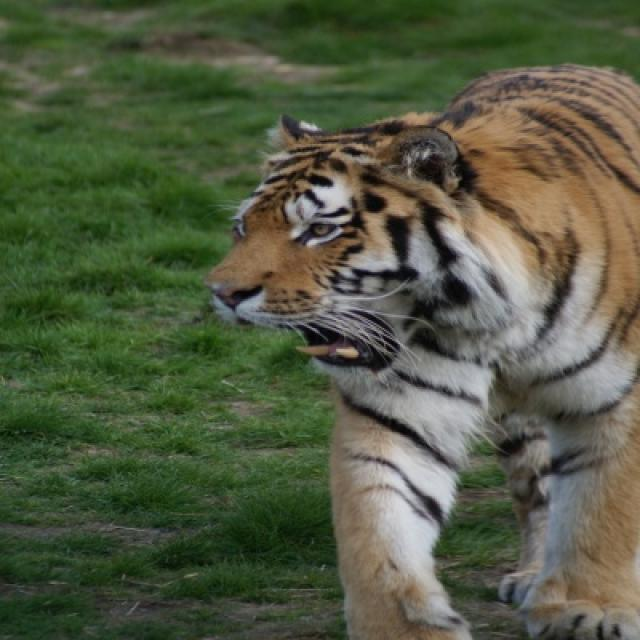Tiger: (210, 66, 638, 638)
